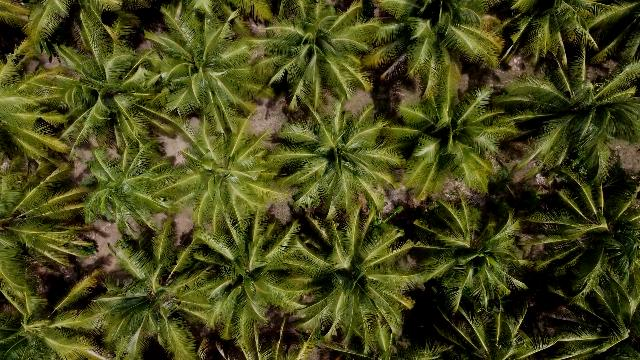trees: (7, 6, 221, 172), (281, 202, 428, 354), (514, 170, 639, 340), (496, 54, 640, 187), (135, 2, 267, 139), (187, 208, 312, 351), (155, 102, 286, 235), (245, 2, 384, 123), (385, 81, 521, 202), (271, 102, 408, 221), (363, 3, 508, 110), (408, 198, 541, 314), (83, 242, 209, 358), (2, 171, 101, 278), (81, 136, 186, 235), (429, 298, 558, 360), (537, 291, 636, 360), (231, 320, 325, 360), (1, 308, 73, 360)
